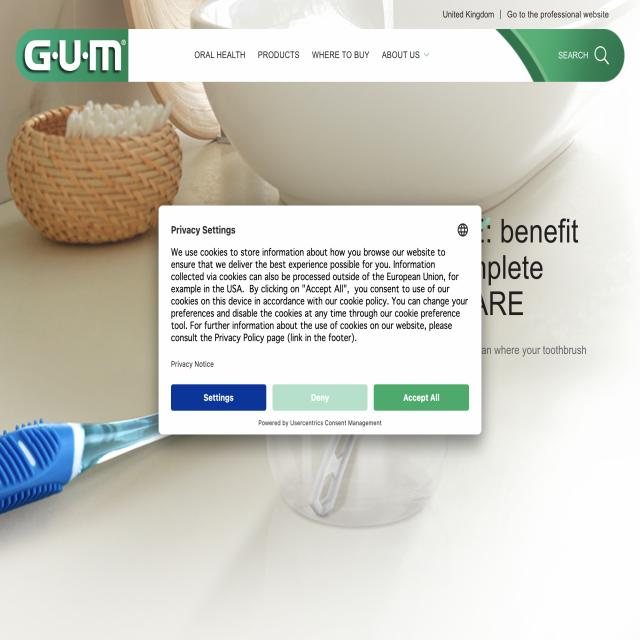Logo: (22, 30, 128, 81)
Navigation: (169, 38, 472, 66)
